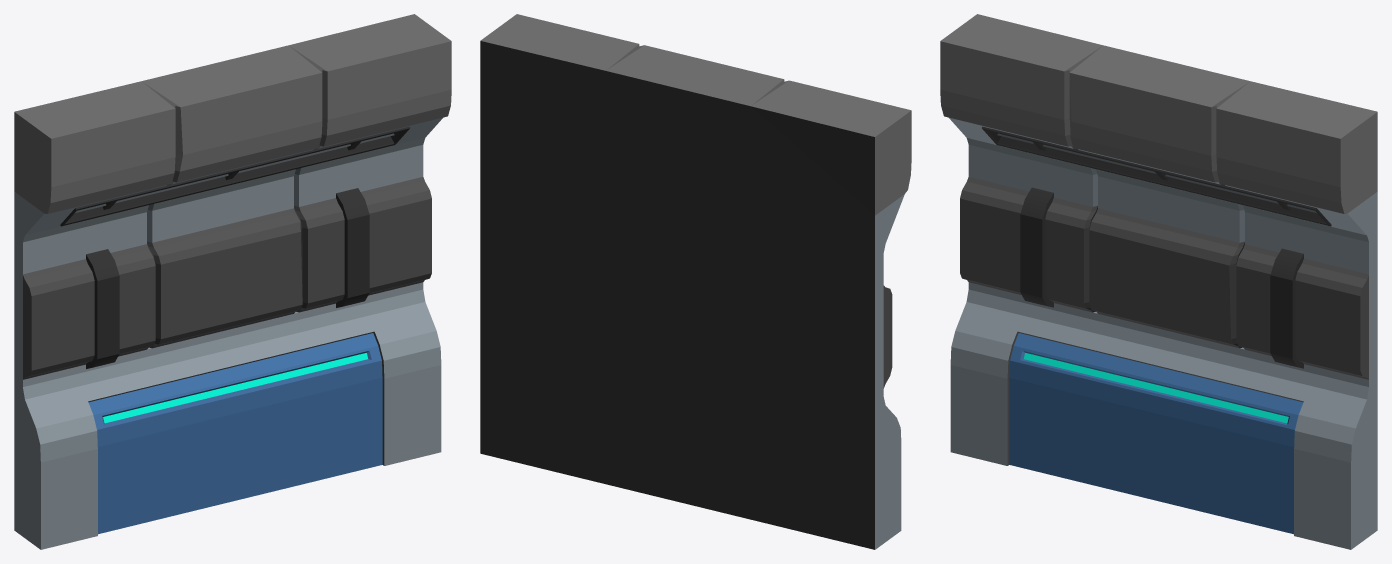
The model's file is SM_Bld_Wall_02.fbx.
The picture shows the model from 3 angles, left to right: view 1: azimuth 30°, elevation 25°; view 2: azimuth 150°, elevation 25°; view 3: azimuth 330°, elevation 25°; orthographic projection.
Visible parts, largest first — view 1: SM_Bld_Wall_02; view 2: SM_Bld_Wall_02; view 3: SM_Bld_Wall_02.
Boxes of the visible parts, box(x1,y1,x2,y2) form: SM_Bld_Wall_02: box(14, 14, 451, 549); SM_Bld_Wall_02: box(480, 14, 911, 549); SM_Bld_Wall_02: box(940, 14, 1377, 549).
Bounding box in the file's own units: 500 × 500 × 80.32.
1 material, 1 textured.
